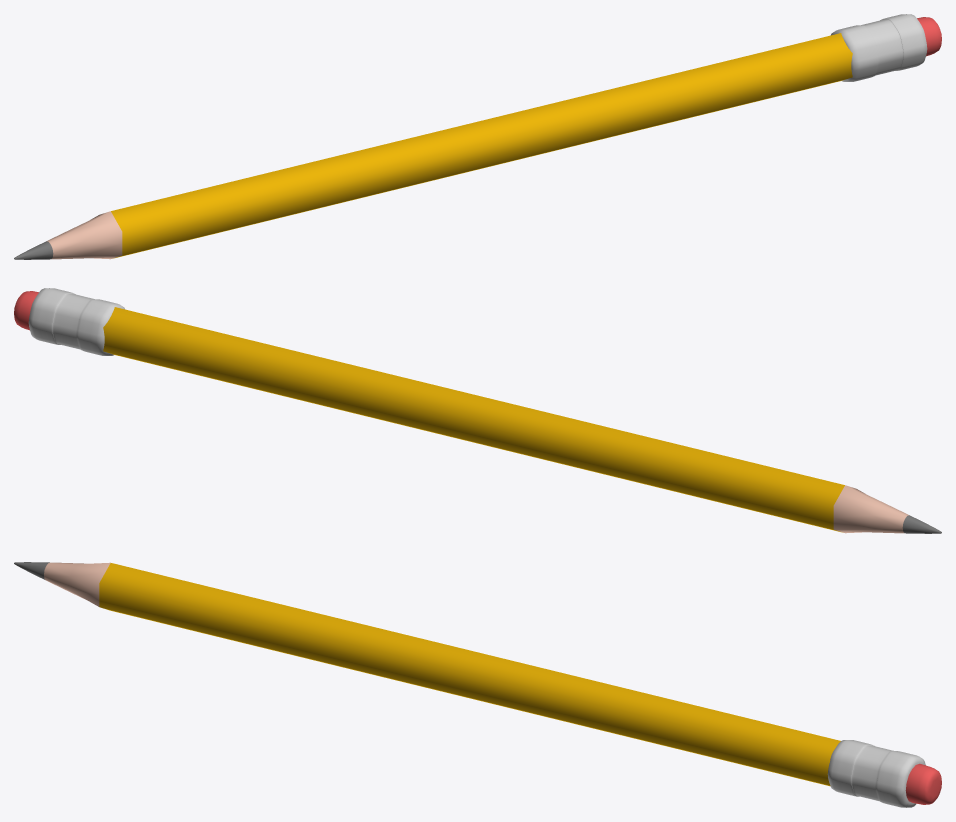
Rendered from Pencil.fbx.
The picture shows the model from 3 angles, top to bottom: view 1: azimuth 30°, elevation 25°; view 2: azimuth 150°, elevation 25°; view 3: azimuth 330°, elevation 25°; orthographic projection.
Parts seen in each view (by area): view 1: pCylinder4; view 2: pCylinder4; view 3: pCylinder4.
Part boxes in pixels (x1,y1,x2,y2): pCylinder4: (14, 14, 941, 259); pCylinder4: (14, 288, 941, 533); pCylinder4: (14, 562, 941, 807).
Bounding box in the file's own units: 18.1 × 0.9499 × 0.9499.
